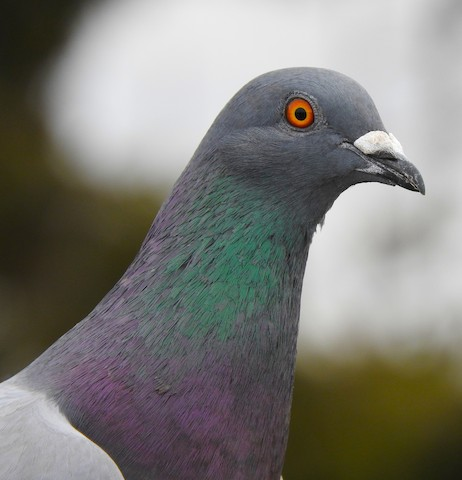pigeon: (5, 55, 429, 472)
